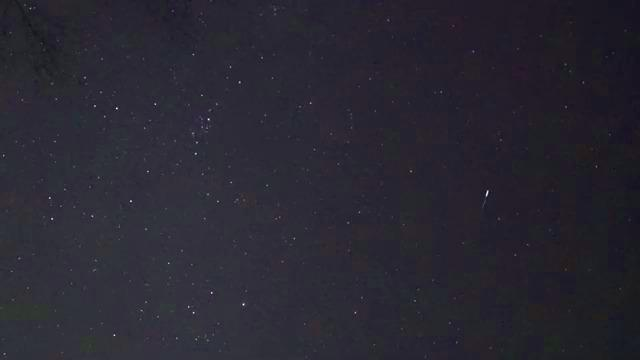meteorite: (472, 183, 498, 215)
